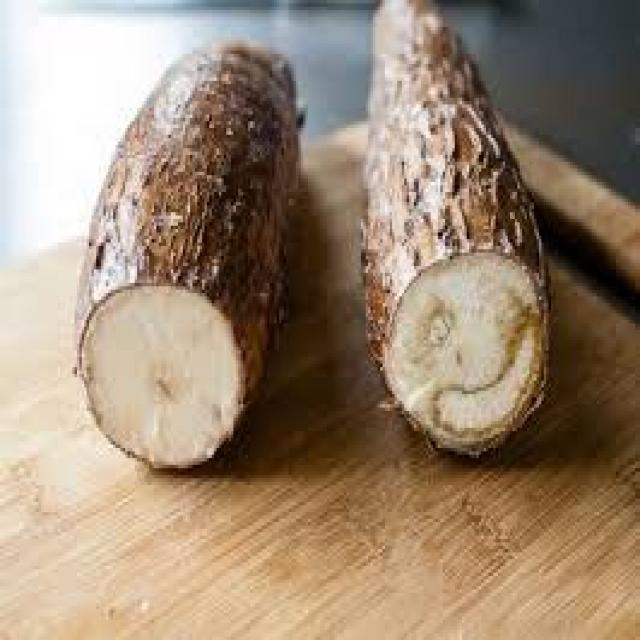organic waste: (70, 37, 298, 472), (361, 0, 553, 455)
